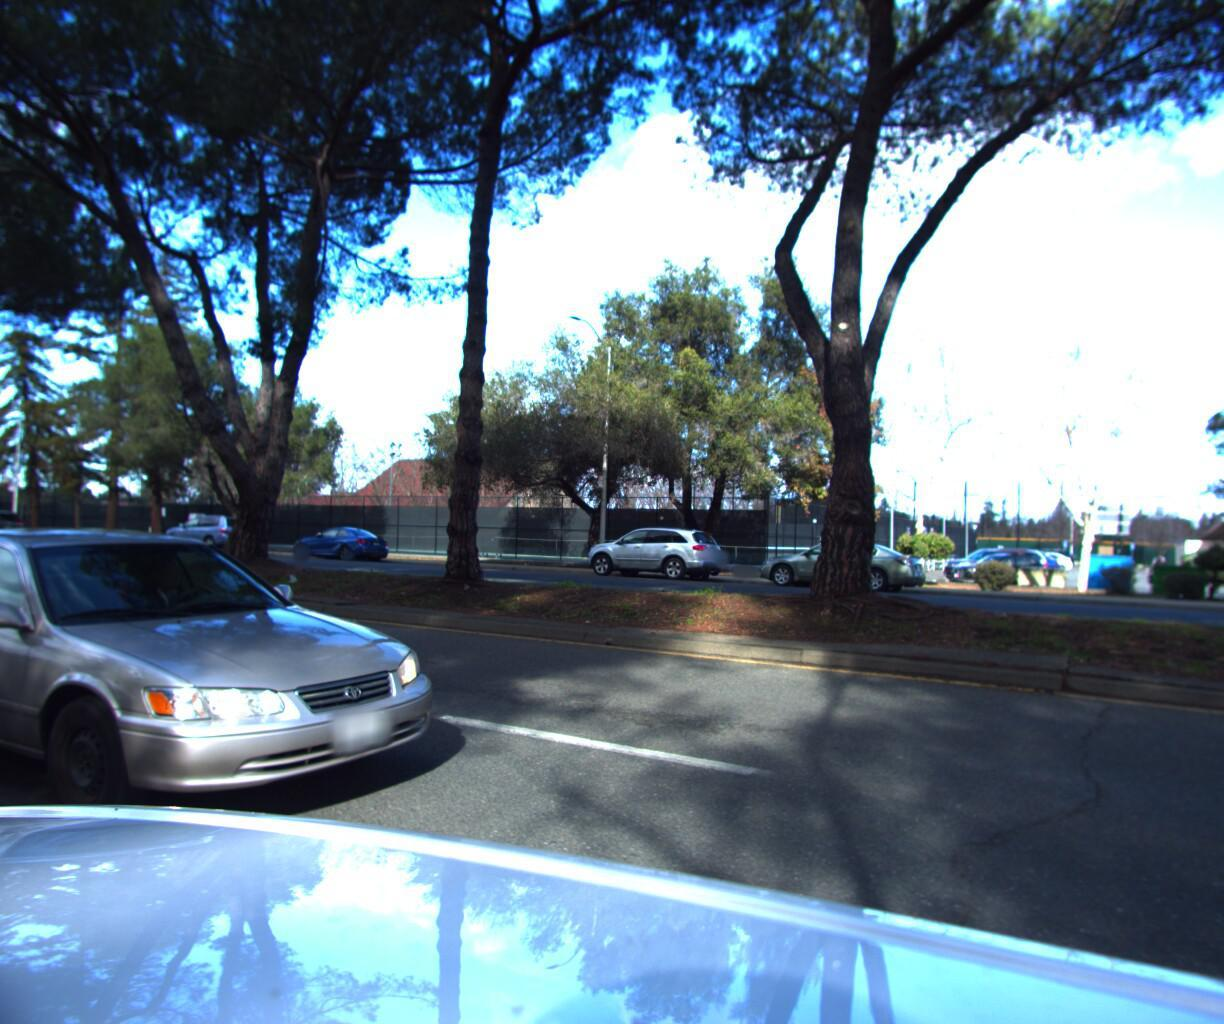car: (745, 535, 933, 602), (571, 523, 737, 584), (280, 525, 401, 566), (156, 514, 266, 558)
